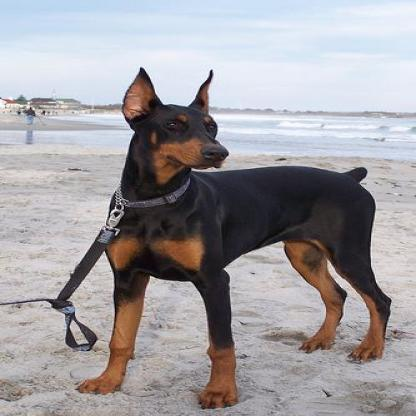Doberman: (74, 66, 392, 408)
